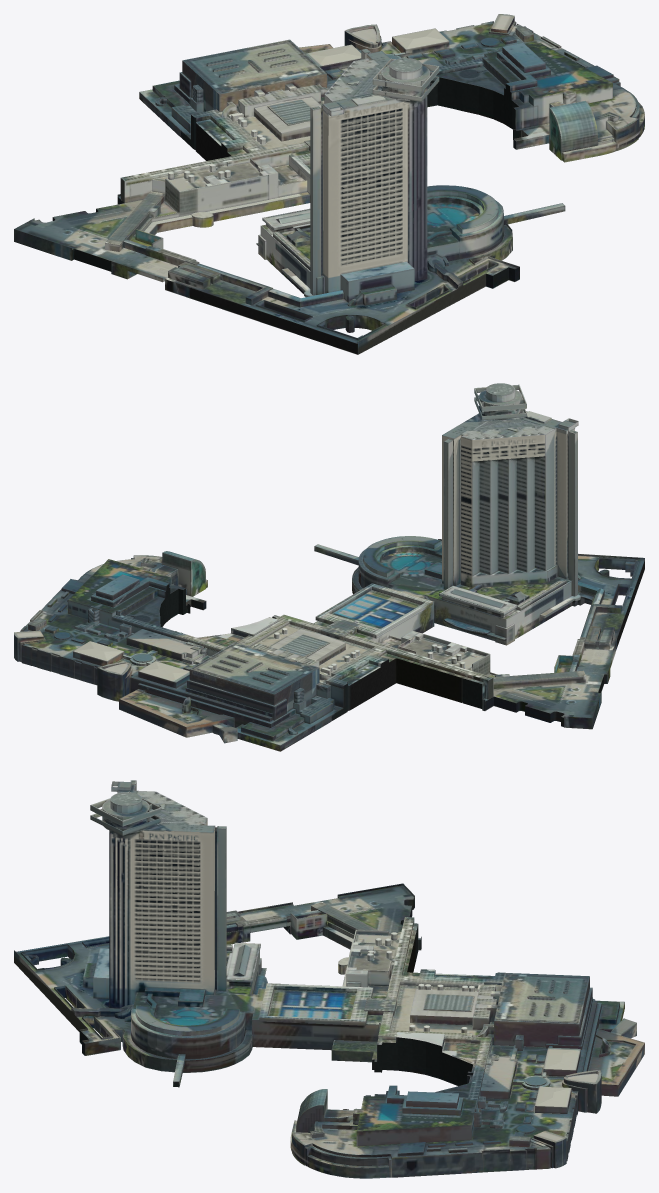
3 views of the same model, one above another, from view 1: azimuth 30°, elevation 25°; view 2: azimuth 150°, elevation 25°; view 3: azimuth 270°, elevation 25° (orthographic). The views are drawn at different scales.
Parts seen in each view (by area): view 1: 3_0.glb; view 2: 3_0.glb; view 3: 3_0.glb.
Part boxes in pixels (x1=…): 3_0.glb: x1=14, y1=14, x2=644, y2=354; 3_0.glb: x1=14, y1=383, x2=644, y2=751; 3_0.glb: x1=14, y1=780, x2=644, y2=1178.
Bounding box in the file's own units: 398 × 140 × 375.
2 materials, 2 textured.
